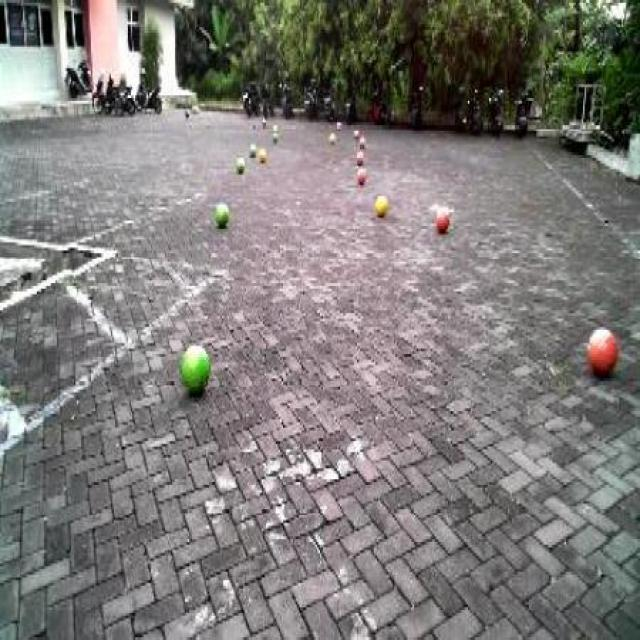buoy: (584, 319, 619, 381), (179, 338, 212, 400), (432, 203, 451, 235), (213, 198, 230, 230), (374, 190, 390, 220), (354, 165, 368, 186), (235, 153, 246, 177)
